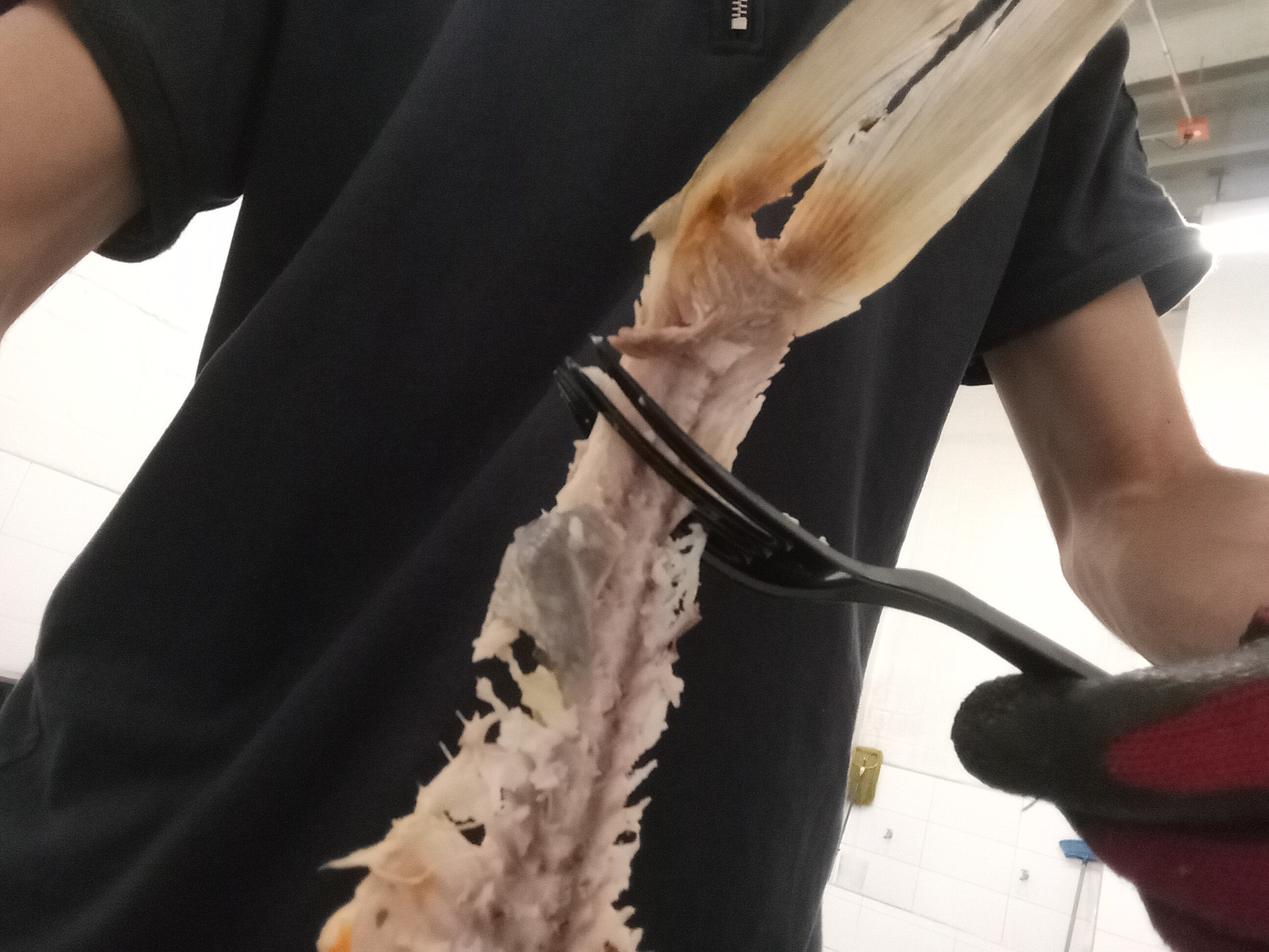Organico: (315, 4, 1131, 952)
